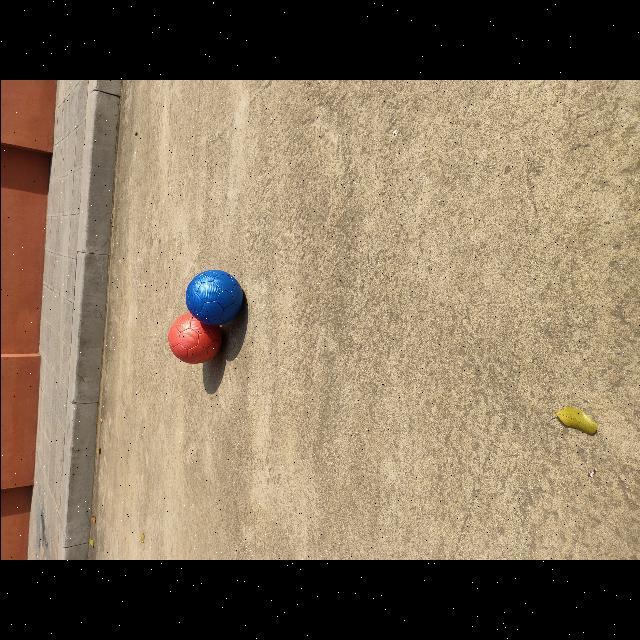B: (184, 270, 242, 325)
R: (168, 313, 221, 364)
